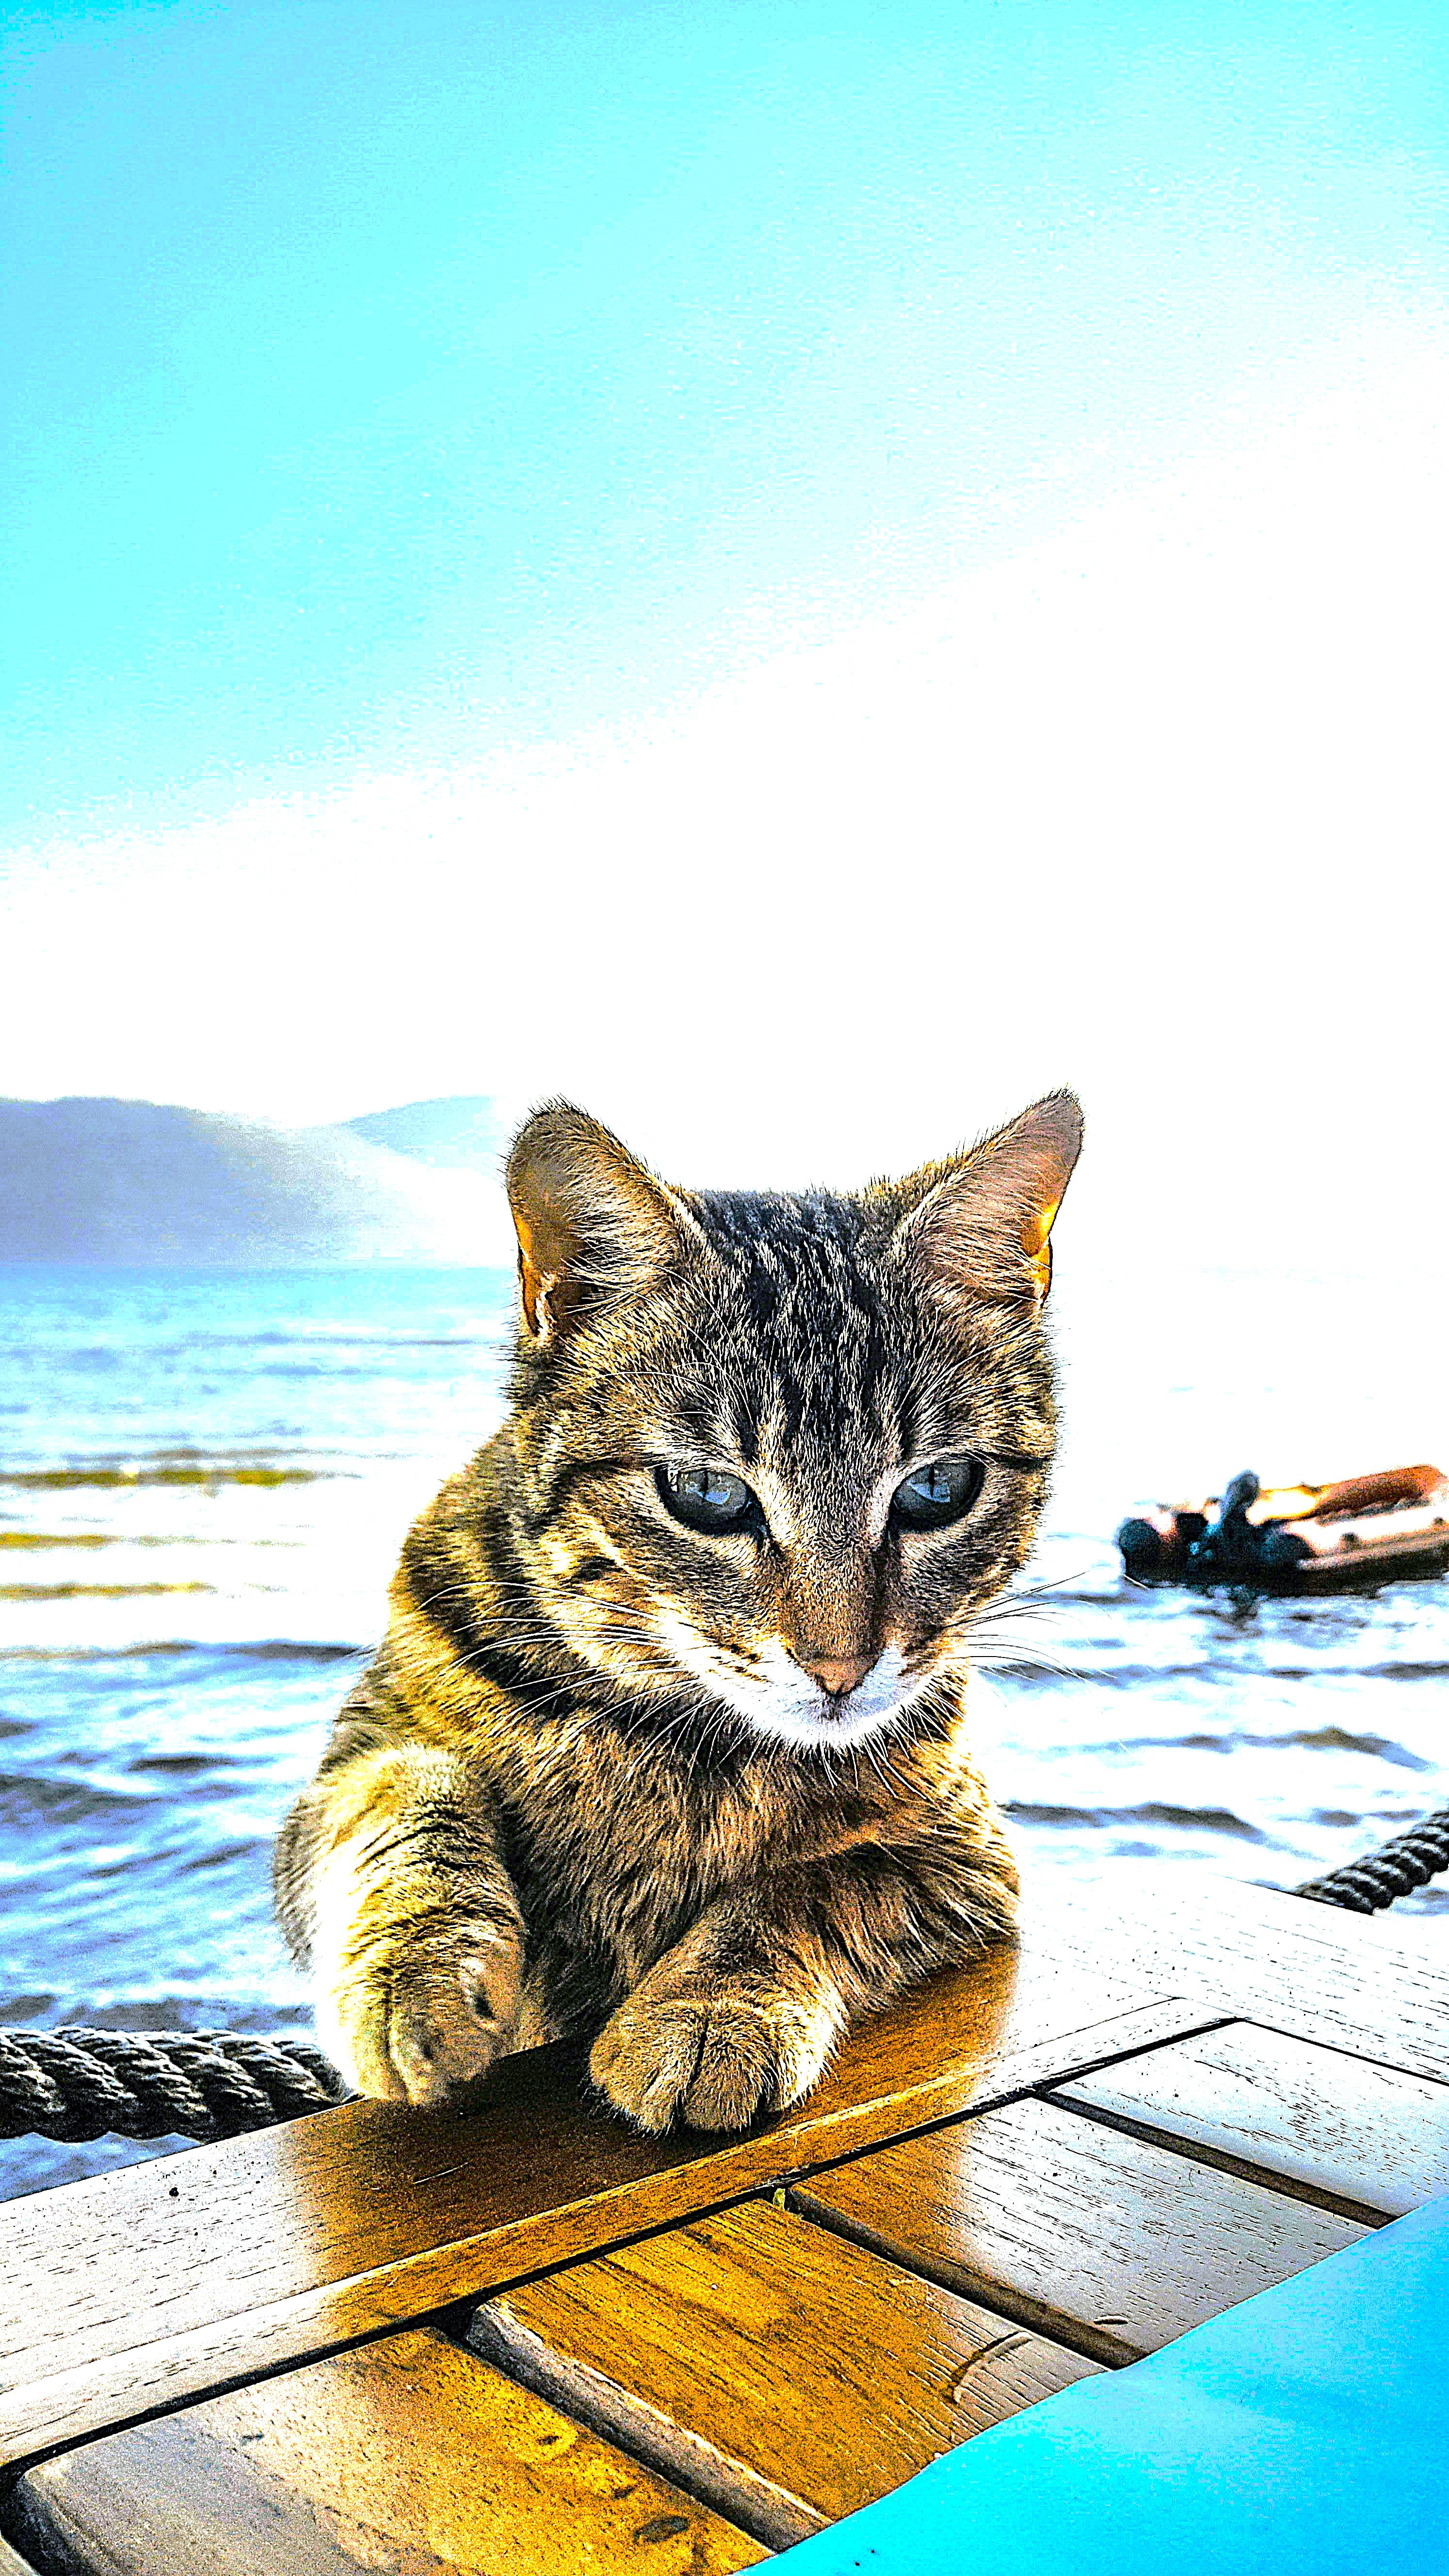cat: (249, 1086, 1113, 2141)
